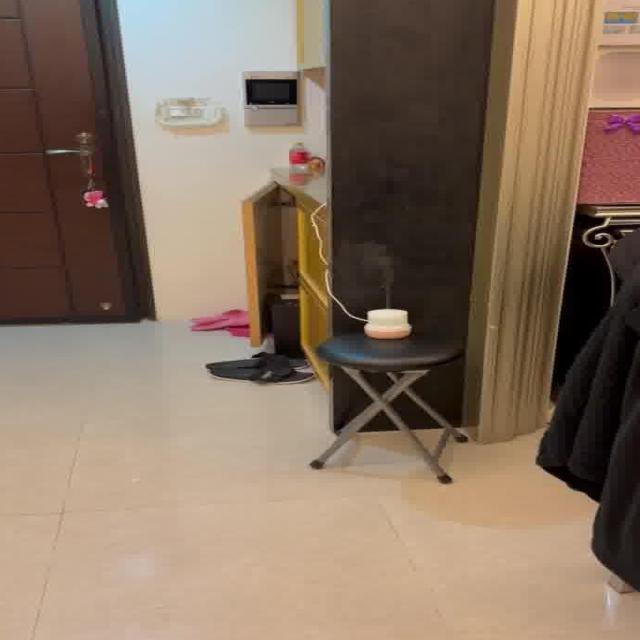fire: (343, 240, 405, 303)
